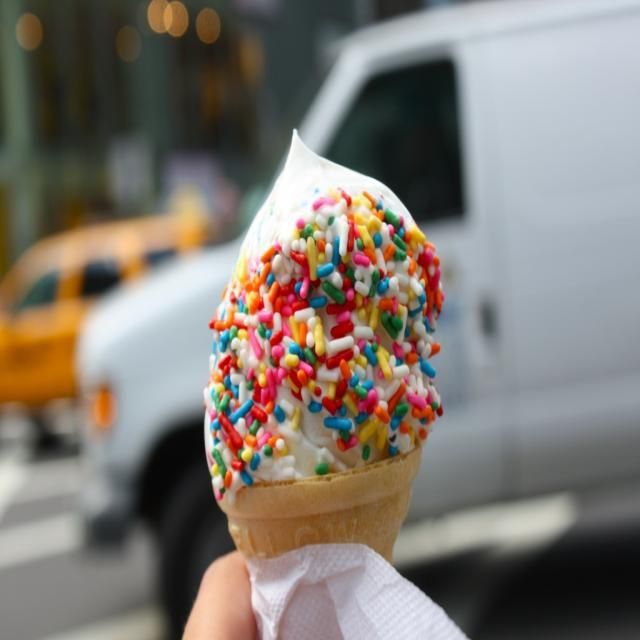Ice cream: (189, 163, 464, 617)
